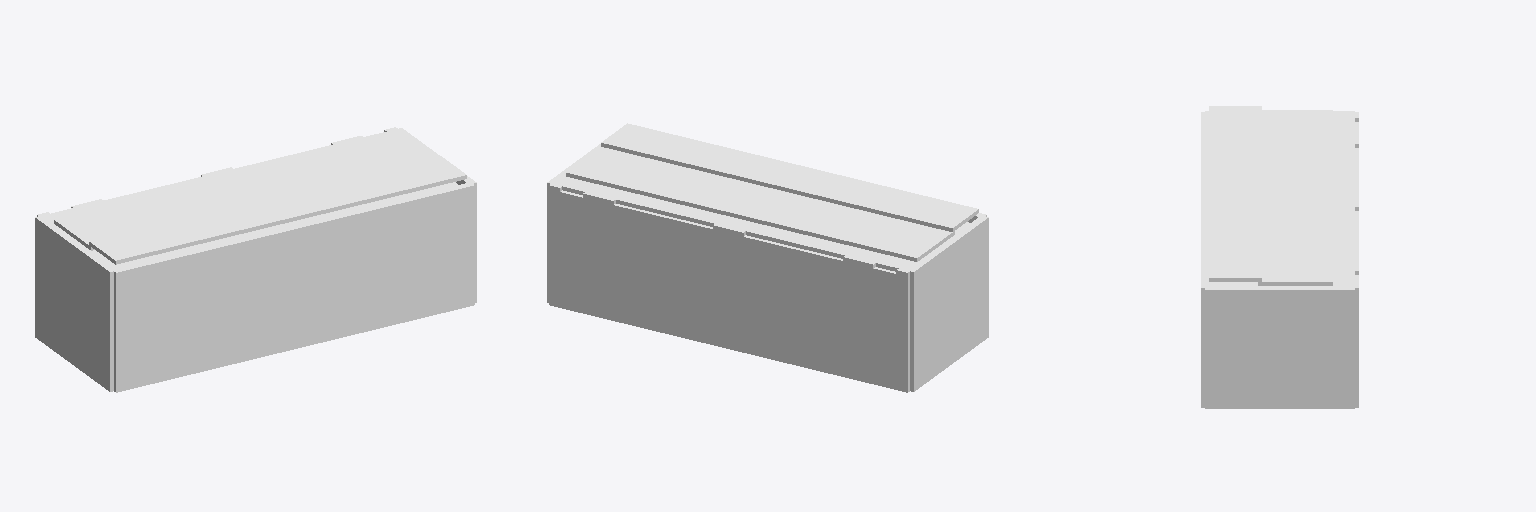
File: large_wooden_box.obj
3 renders of one model, left to right at view 1: azimuth 30°, elevation 25°; view 2: azimuth 150°, elevation 25°; view 3: azimuth 270°, elevation 25°, orthographic.
Visible parts, largest first — view 1: object 1; view 2: object 1; view 3: object 1.
Part boxes in pixels (x1,y1,x2,y2): object 1: (35, 127, 476, 392); object 1: (547, 123, 988, 392); object 1: (1201, 106, 1358, 408).
Size of the model in its own units: 9.6 by 3.2 by 3.6.